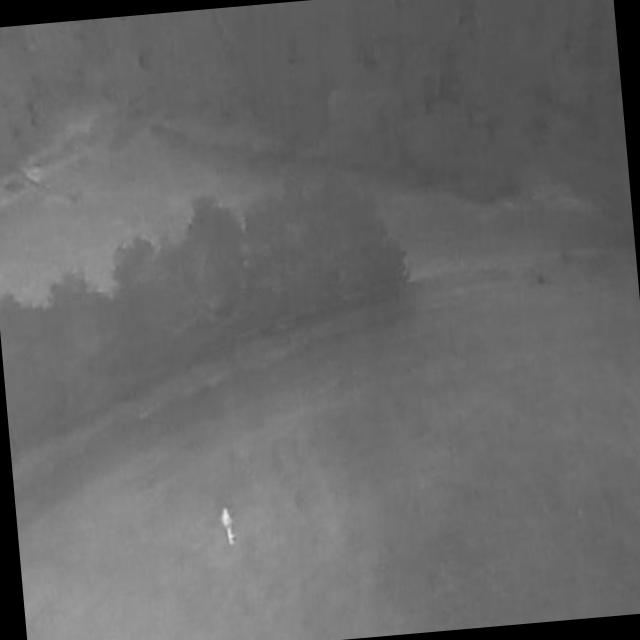person: (220, 507, 238, 548)
